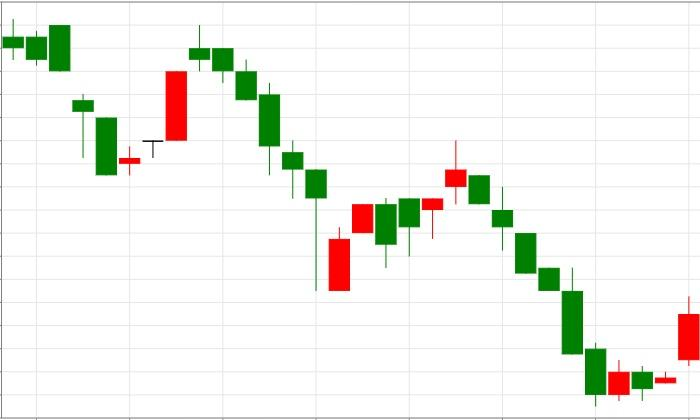three_black_crows_fall: (329, 140, 536, 291)
